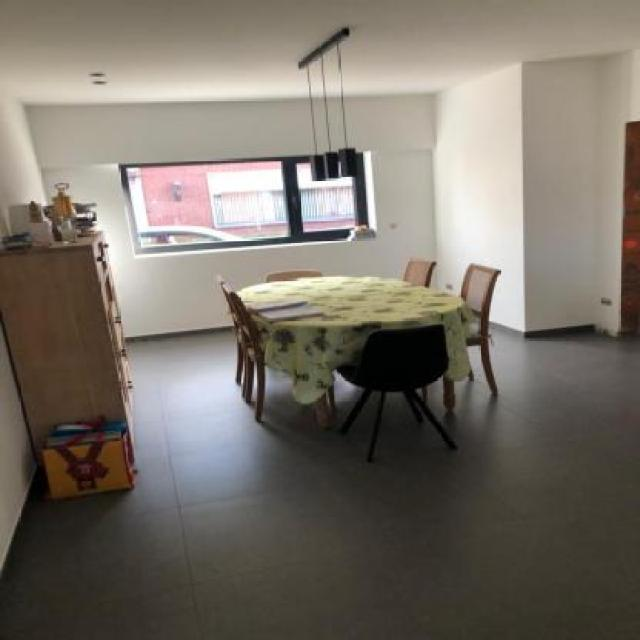floor: (2, 326, 639, 640)
